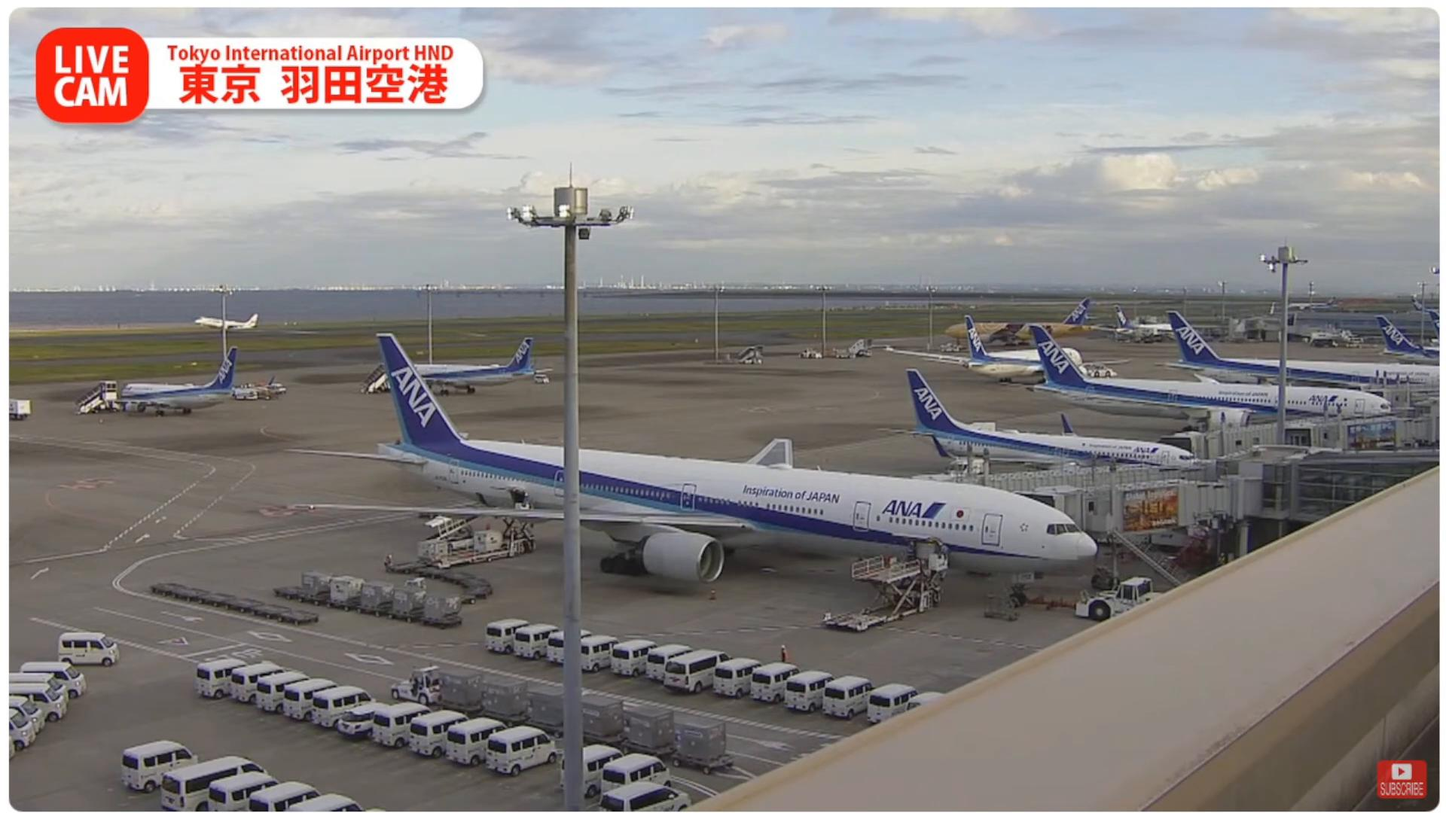APS: (1079, 573, 1169, 620)
Aerobridge: (937, 438, 1217, 490), (1025, 480, 1229, 535)
Airplane: (279, 328, 1098, 610)
Dolly: (276, 584, 456, 636), (396, 560, 496, 608)
JCPL: (830, 549, 945, 633), (447, 519, 535, 571)
Skyloader: (416, 502, 490, 546)
Tractor: (409, 578, 429, 591)
Window: (1286, 455, 1435, 523)
